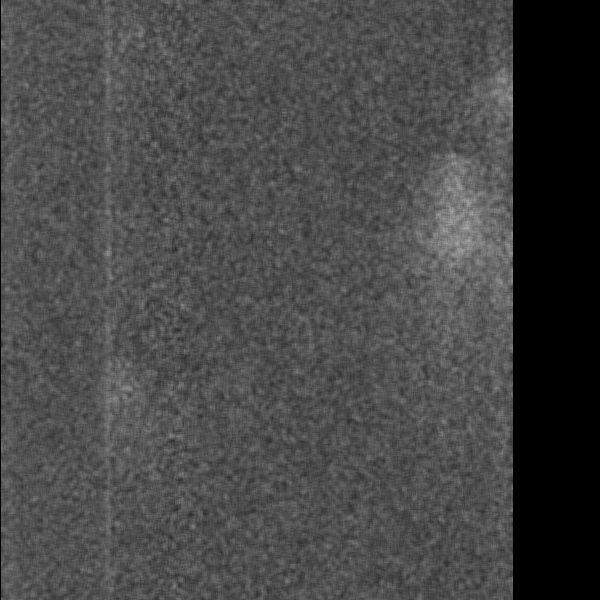spark: (435, 156, 488, 370)
